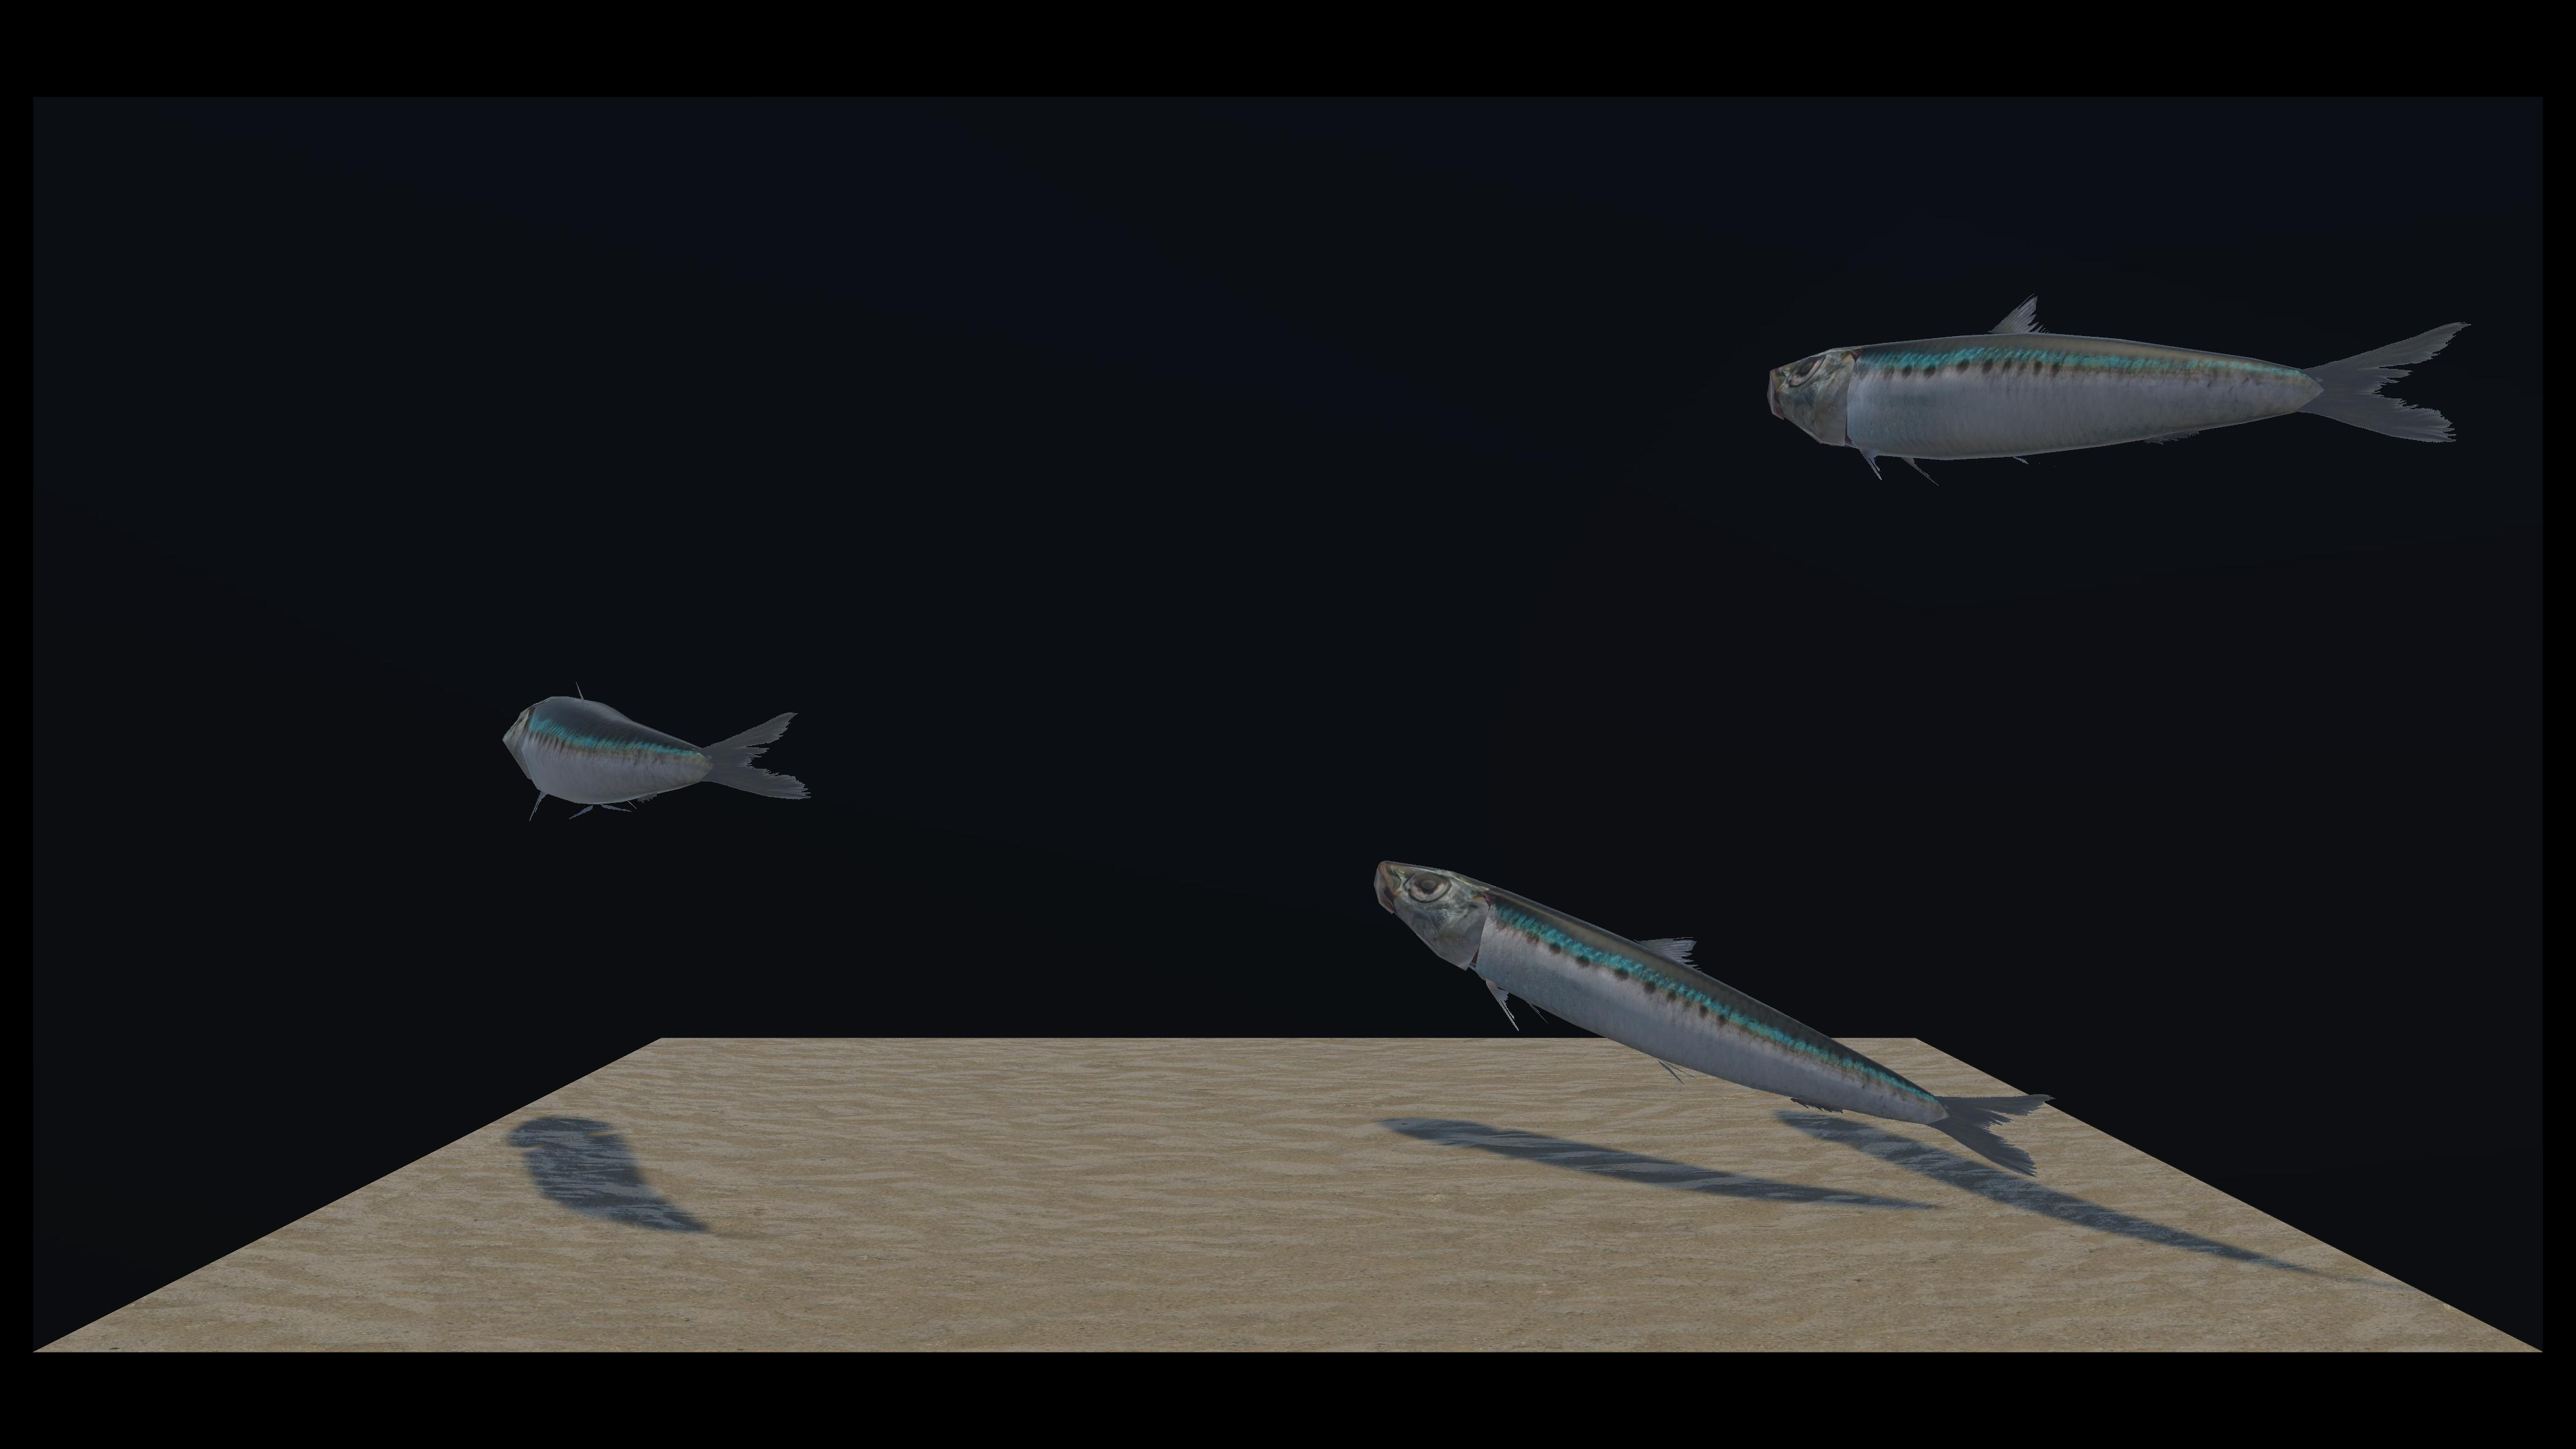Sardine_Front: (1014, 625, 2043, 1175), (902, 303, 2454, 621), (479, 389, 957, 832)
